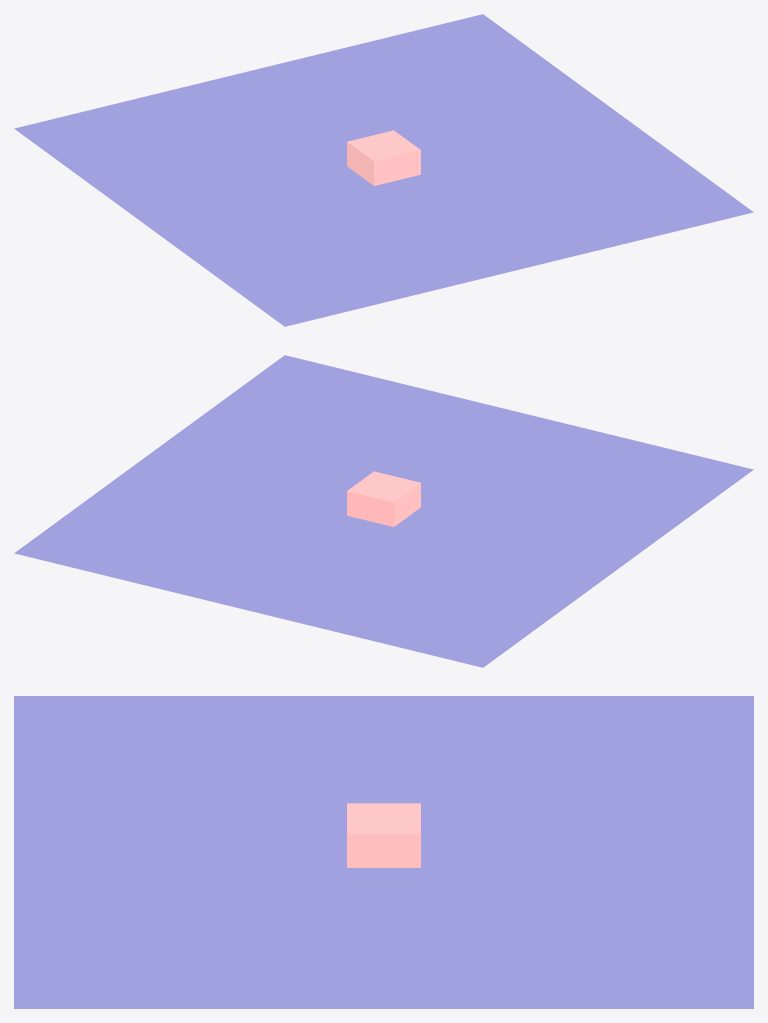
The picture shows the model from 3 angles, top to bottom: view 1: azimuth 30°, elevation 25°; view 2: azimuth 150°, elevation 25°; view 3: azimuth 270°, elevation 25°; orthographic projection. The views are drawn at different scales.
Visible parts, largest first — view 1: Plane, Box; view 2: Plane, Box; view 3: Plane, Box.
Boxes of the visible parts, x1=… form: Plane: x1=14, y1=14, x2=753, y2=326; Box: x1=347, y1=130, x2=420, y2=185; Plane: x1=14, y1=355, x2=753, y2=667; Box: x1=347, y1=471, x2=420, y2=526; Plane: x1=14, y1=696, x2=753, y2=1008; Box: x1=347, y1=803, x2=420, y2=867.
Size of the model in its own units: 10 by 1 by 10.
